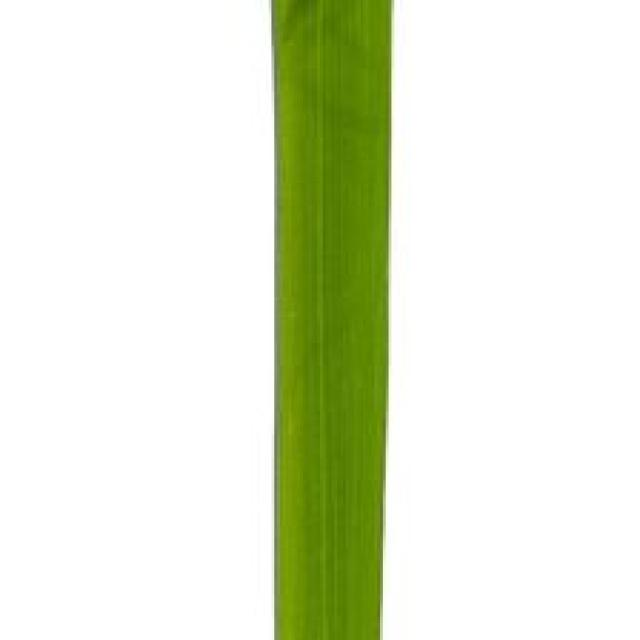Rice___Healthy_Rice_Plant: (271, 0, 396, 637)
